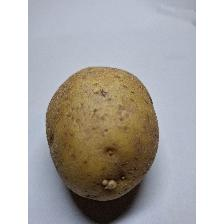Kartoffel: (41, 61, 161, 204)
